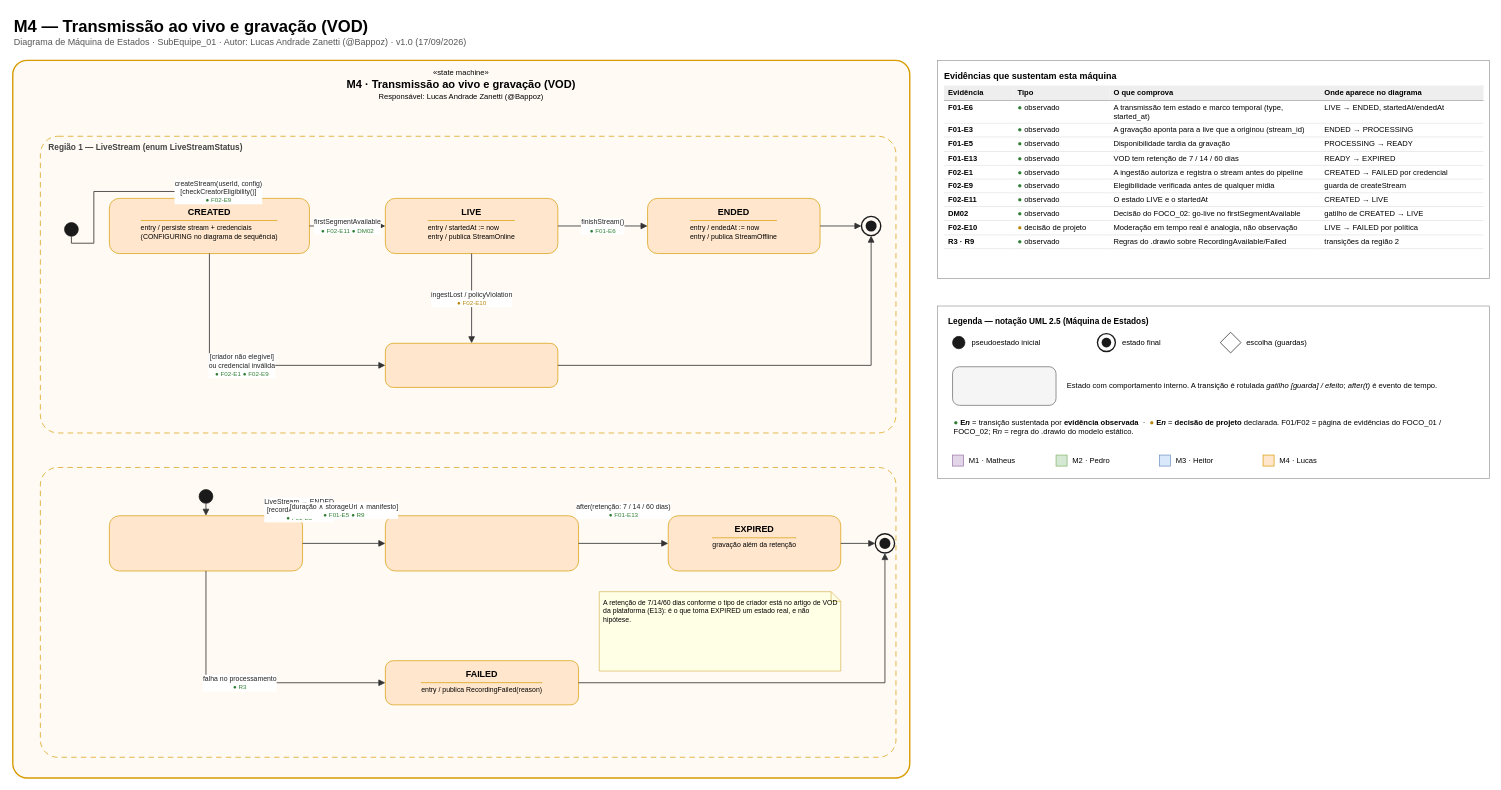
The diagram is 1501 pixels wide and 790 high, and some of its shapes have lost their labels. The shapes that lost their labels are listed below. From the top down, each one's box as (x1, y1, x2, y2) in pixels, then its label:
(385, 343, 558, 387): FAILED entry / fail(reason)
(952, 366, 1056, 405): ESTADO entry / do / exit
(109, 515, 303, 571): PROCESSING do / persistRecording(streamId) availableAt ainda indefinido
(385, 515, 579, 571): READY entry / availableAt := now entry / publica RecordingAvailable
(40, 467, 896, 757): Região 2 — RecordedVideo / VOD (enum ProcessingStatus)
